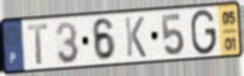3: (53, 19, 80, 66)
5: (159, 12, 186, 58)
6: (90, 16, 118, 63)
G: (189, 8, 218, 57)
K: (123, 15, 148, 59)
T: (26, 22, 50, 67)
